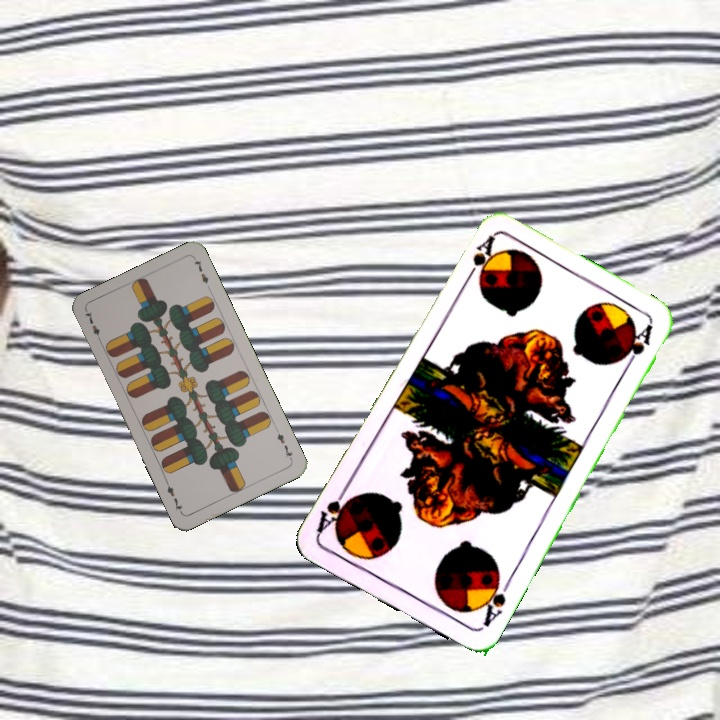E7: (81, 307, 105, 345), (272, 425, 295, 463)
SA: (476, 571, 514, 630), (460, 232, 498, 286)
